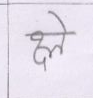o_matra: (54, 12, 69, 56)
